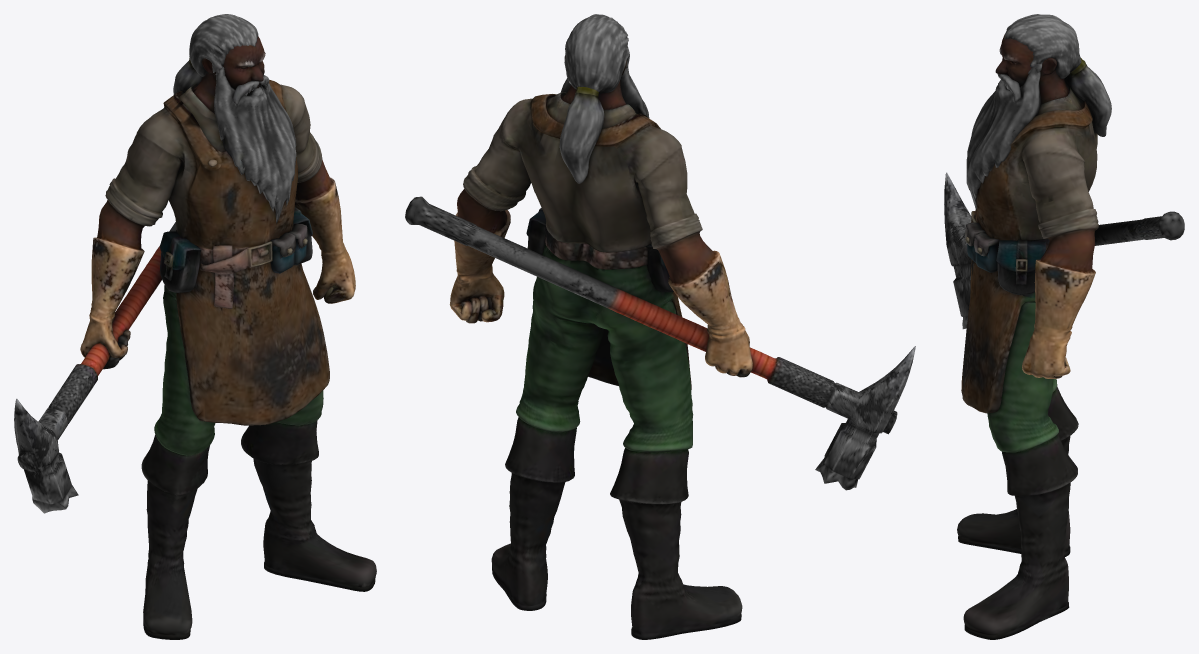
The model's file is MZ4250 - Human Male Blacksmith_2.glb.
3 renders of one model, left to right at view 1: azimuth 30°, elevation 25°; view 2: azimuth 150°, elevation 25°; view 3: azimuth 270°, elevation 25°, orthographic. The views are drawn at different scales.
Visible parts, largest first — view 1: Body.002; view 2: Body.002; view 3: Body.002.
Part boxes in pixels (x1,y1,x2,y2): Body.002: (14, 14, 376, 639); Body.002: (405, 14, 915, 639); Body.002: (944, 14, 1184, 639).
Bounding box in the file's own units: 0.6518 × 0.9113 × 0.3525.
Materials: 1 (1 with a texture image).
